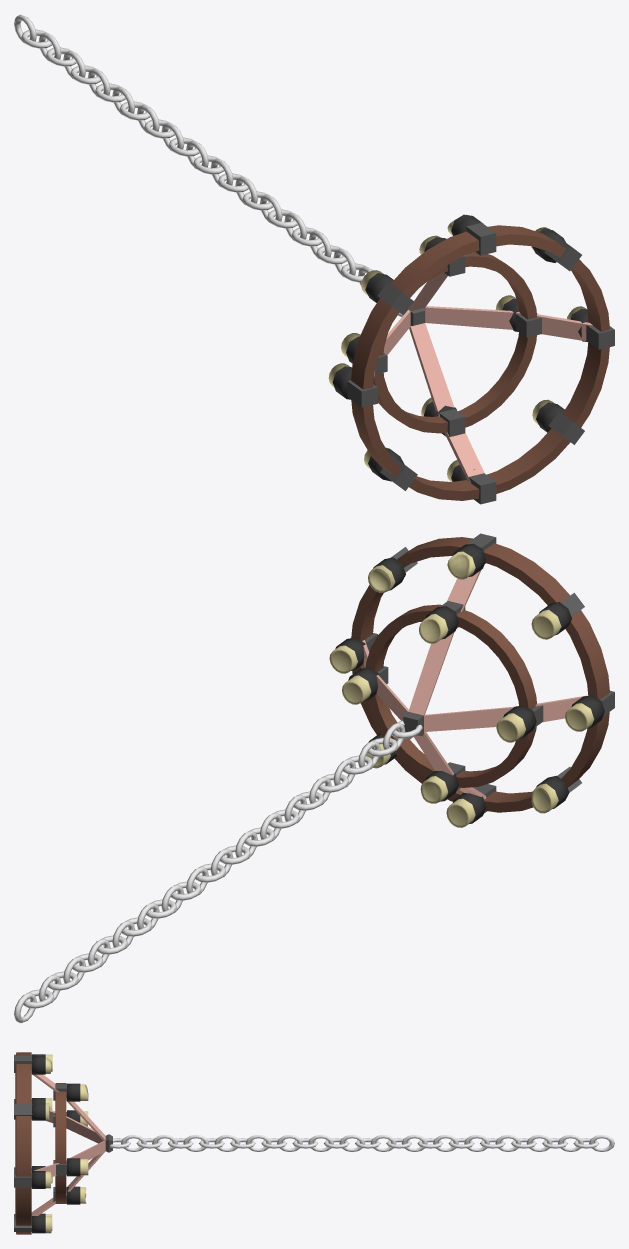
The model's file is chandelier.fbx.
The picture shows the model from 3 angles, top to bottom: view 1: azimuth 30°, elevation 25°; view 2: azimuth 150°, elevation 25°; view 3: azimuth 270°, elevation 25°; orthographic projection. The views are drawn at different scales.
Parts seen in each view (by area): view 1: Torus; view 2: Torus; view 3: Torus.
Boxes of the visible parts, <box> form: Torus: <box>14,14,614,504</box>; Torus: <box>14,533,614,1023</box>; Torus: <box>14,1052,614,1234</box>.
Bounding box in the file's own units: 484 × 484 × 1519.
